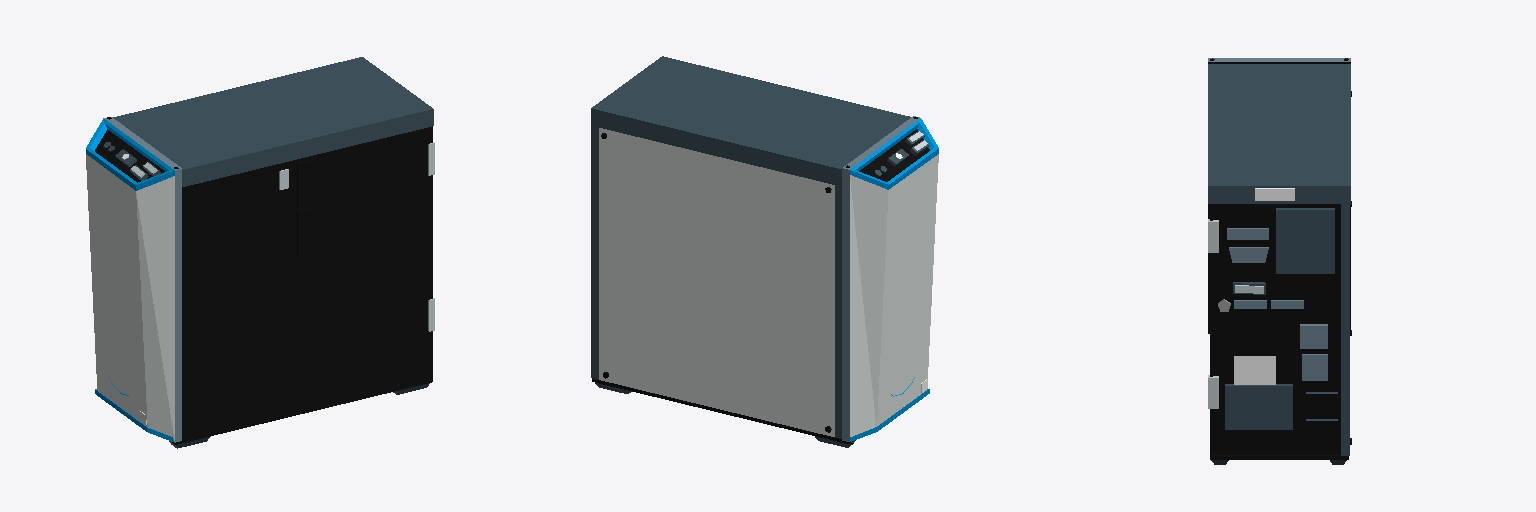
3 views of the same model, side by side, from view 1: azimuth 30°, elevation 25°; view 2: azimuth 150°, elevation 25°; view 3: azimuth 270°, elevation 25° (orthographic).
Parts seen in each view (by area): view 1: group[number redacted], group[number redacted], group[number redacted], group[number redacted], group[number redacted], group[number redacted], group[number redacted]; view 2: group[number redacted], group[number redacted], group[number redacted], group[number redacted], group[number redacted], group[number redacted], group[number redacted]; view 3: group[number redacted], group[number redacted], group[number redacted], group[number redacted], group[number redacted], group[number redacted], group[number redacted], group[number redacted], group[number redacted], group[number redacted], group[number redacted], group[number redacted] (+2 smaller).
Part boxes in pixels (x1,y1,x2,y2): group[number redacted]: (182,126,432,439); group[number redacted]: (86,118,174,441); group[number redacted]: (113,57,433,186); group[number redacted]: (104,117,181,442); group[number redacted]: (172,379,432,444); group[number redacted]: (297,159,314,207); group[number redacted]: (297,208,314,254); group[number redacted]: (599,128,834,436); group[number redacted]: (850,118,938,436); group[number redacted]: (591,56,910,186); group[number redacted]: (842,116,919,441); group[number redacted]: (591,126,598,379); group[number redacted]: (835,185,841,438); group[number redacted]: (592,378,852,443); group[number redacted]: (1208,64,1350,203); group[number redacted]: (1213,204,1340,454); group[number redacted]: (1276,208,1334,273); group[number redacted]: (1225,384,1292,429); group[number redacted]: (1341,204,1349,455); group[number redacted]: (1234,356,1275,384); group[number redacted]: (1208,58,1350,333); group[number redacted]: (1306,392,1337,414); group[number redacted]: (1306,419,1337,441); group[number redacted]: (1302,354,1327,380); group[number redacted]: (1300,324,1327,348); group[number redacted]: (1210,455,1348,459).
Size of the model in its own units: 1.94 by 1.8 by 0.8277.